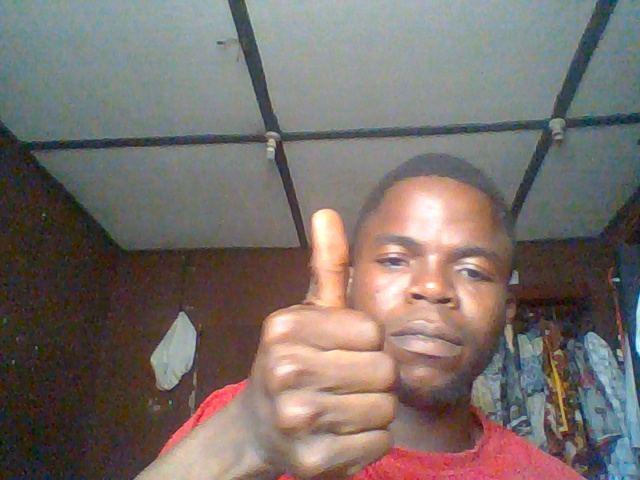Thumbup: (217, 206, 404, 476)
